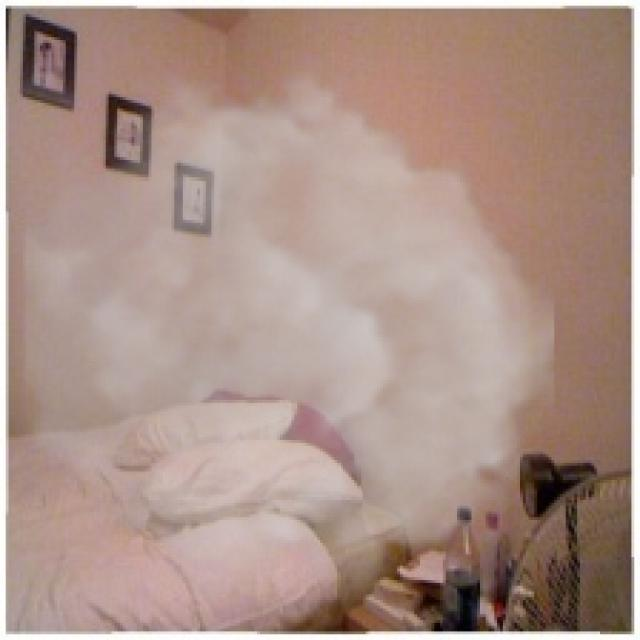smoke: (23, 51, 554, 612)
